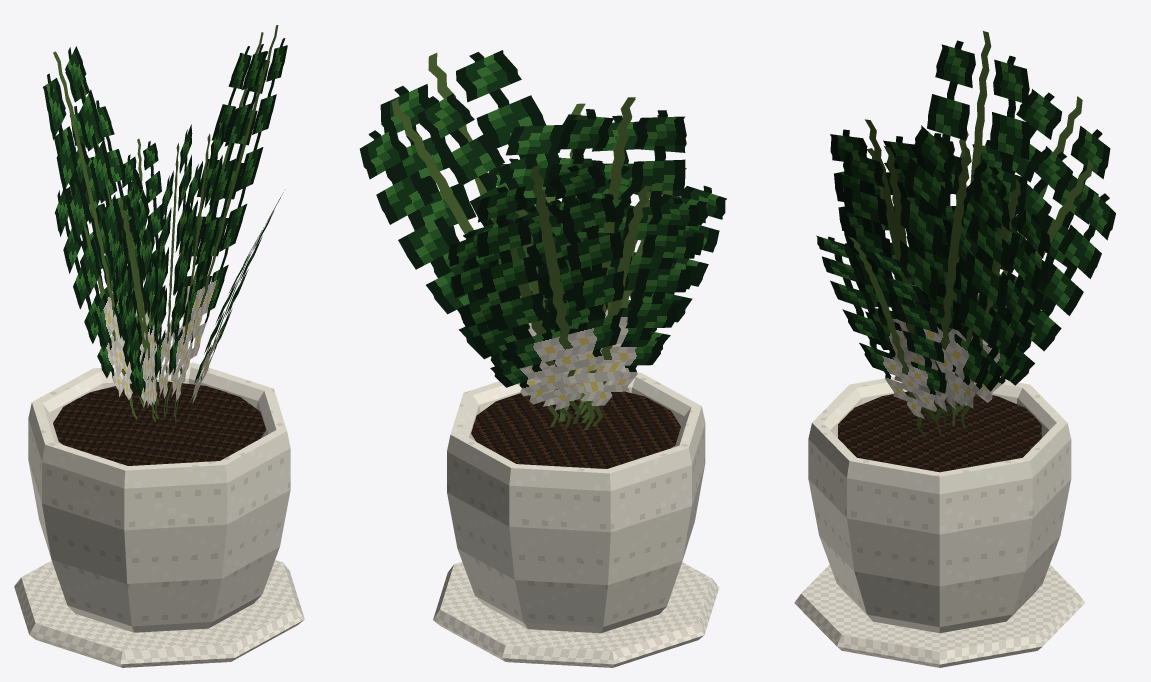
File: jasmine.obj
The picture shows the model from 3 angles, left to right: view 1: azimuth 30°, elevation 25°; view 2: azimuth 150°, elevation 25°; view 3: azimuth 270°, elevation 25°; orthographic projection. The views are drawn at different scales.
Parts seen in each view (by area): view 1: Pot, Saucer, Soil, Branch_006, Branch_010, Branch_001, Branch_011, Branch_003, Branch_009, Branch_008, Branch_000, Branch_002 (+3 smaller); view 2: Pot, Branch_004, Branch_008, Saucer, Soil, Branch_006, Branch_010, Branch_011, Branch_007, Branch_003, Branch_001, Branch_000 (+2 smaller); view 3: Pot, Branch_010, Saucer, Soil, Branch_005, Branch_006, Branch_007, Branch_003, Branch_008, Branch_004, Branch_009, Branch_002 (+3 smaller).
Part boxes in pixels (bbox=[...]): Pot: bbox=[28, 362, 290, 632]; Saucer: bbox=[14, 560, 304, 667]; Soil: bbox=[53, 381, 265, 465]; Branch_006: bbox=[46, 46, 135, 414]; Branch_010: bbox=[173, 25, 287, 416]; Branch_001: bbox=[115, 176, 159, 419]; Branch_011: bbox=[55, 142, 137, 419]; Branch_003: bbox=[169, 121, 224, 422]; Branch_009: bbox=[154, 124, 192, 418]; Branch_008: bbox=[166, 32, 269, 413]; Branch_000: bbox=[109, 169, 157, 422]; Branch_002: bbox=[122, 138, 165, 404]; Pot: bbox=[447, 372, 705, 633]; Branch_004: bbox=[477, 164, 624, 423]; Branch_008: bbox=[359, 93, 565, 421]; Saucer: bbox=[433, 562, 719, 667]; Soil: bbox=[471, 391, 680, 468]; Branch_006: bbox=[537, 97, 686, 430]; Branch_010: bbox=[380, 50, 565, 421]; Branch_011: bbox=[548, 185, 699, 426]; Branch_007: bbox=[448, 203, 593, 427]; Branch_003: bbox=[499, 103, 638, 413]; Branch_001: bbox=[582, 165, 726, 417]; Branch_000: bbox=[547, 182, 707, 422]; Pot: bbox=[808, 376, 1071, 633]; Branch_010: bbox=[899, 125, 1010, 434]; Saucer: bbox=[794, 564, 1084, 667]; Soil: bbox=[838, 391, 1041, 472]; Branch_005: bbox=[816, 235, 946, 436]; Branch_006: bbox=[924, 31, 1029, 413]; Branch_007: bbox=[952, 146, 1115, 426]; Branch_003: bbox=[843, 146, 961, 428]; Branch_008: bbox=[943, 159, 1045, 429]; Branch_004: bbox=[955, 89, 1110, 415]; Branch_009: bbox=[830, 119, 949, 421]; Branch_002: bbox=[952, 178, 1050, 429].
Bounding box in the file's own units: 2.02 × 3.45 × 1.96.
